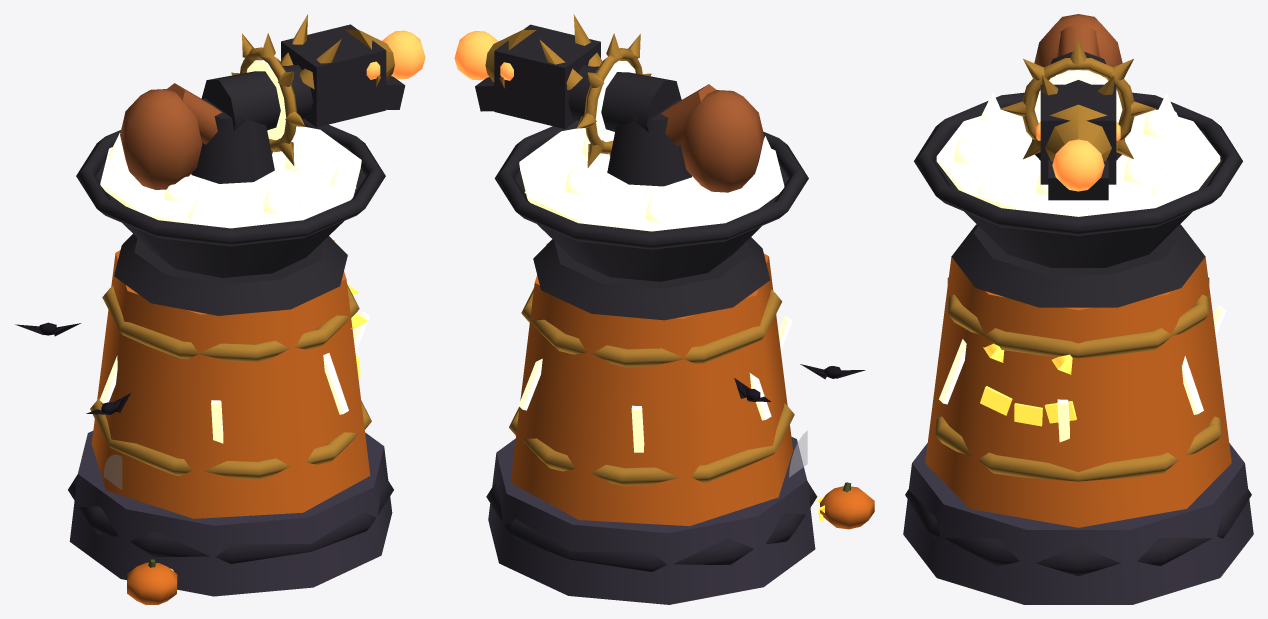
File: tower_flame_sunfire.glb
3 views of the same model, side by side, from view 1: azimuth 30°, elevation 25°; view 2: azimuth 150°, elevation 25°; view 3: azimuth 270°, elevation 25° (orthographic). The views are drawn at different scales.
Visible parts, largest first — view 1: body, base, coals, brazier_foot, brazier_lip, dragon_head, gas_tank, brazier_bowl, soot_ring, nozzle_post, body_band_0.3, neck (+11 smaller); view 2: body, base, coals, brazier_foot, brazier_lip, dragon_head, gas_tank, brazier_bowl, soot_ring, nozzle_post, body_band_0.3, neck (+10 smaller); view 3: body, base, coals, brazier_foot, brazier_lip, brazier_bowl, body_band_0.3, soot_ring, body_band_0.15, dragon_head, sun_ring, dragon_muzzle (+12 smaller).
Part boxes in pixels (box(x1,y1,x2,y2)): body: box(91, 240, 370, 518); base: box(69, 431, 392, 596); coals: box(100, 126, 361, 228); brazier_foot: box(114, 234, 347, 315); brazier_lip: box(76, 119, 385, 246); dragon_head: box(281, 24, 386, 127); gas_tank: box(120, 89, 202, 189); brazier_bowl: box(96, 144, 365, 277); soot_ring: box(68, 475, 393, 563); nozzle_post: box(191, 98, 274, 183); body_band_0.3: box(102, 284, 359, 362); neck: box(201, 65, 313, 130); body: box(510, 243, 792, 526); base: box(488, 436, 815, 604); coals: box(519, 128, 784, 231); brazier_foot: box(533, 237, 770, 320); brazier_lip: box(494, 120, 808, 249); dragon_head: box(494, 24, 600, 128); gas_tank: box(681, 90, 764, 192); brazier_bowl: box(515, 146, 788, 281); soot_ring: box(486, 481, 817, 571); nozzle_post: box(607, 99, 691, 186); body_band_0.3: box(521, 288, 782, 367); neck: box(568, 65, 681, 132); body: box(925, 257, 1231, 527); base: box(903, 443, 1253, 604); coals: box(936, 109, 1220, 216); brazier_foot: box(951, 224, 1205, 307); brazier_lip: box(914, 92, 1242, 235); brazier_bowl: box(935, 130, 1221, 267); body_band_0.3: box(947, 277, 1209, 358); soot_ring: box(905, 489, 1251, 576); body_band_0.15: box(935, 416, 1221, 481); dragon_head: box(1040, 84, 1116, 184); sun_ring: box(1022, 58, 1134, 140); dragon_muzzle: box(1036, 104, 1120, 161).
Size of the model in its own units: 0.5193 by 0.65 by 0.4.
